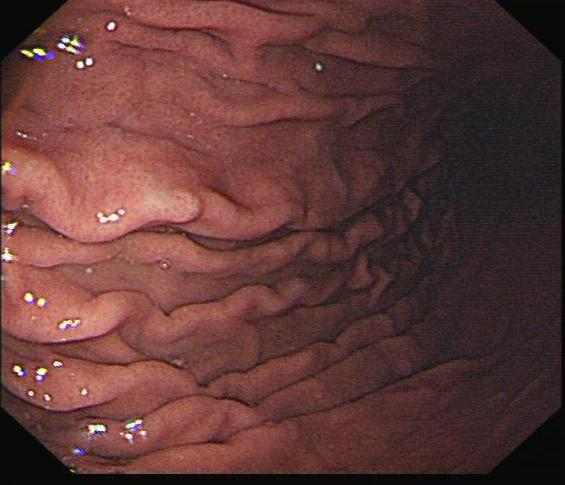Polyp: (151, 170, 206, 242)
